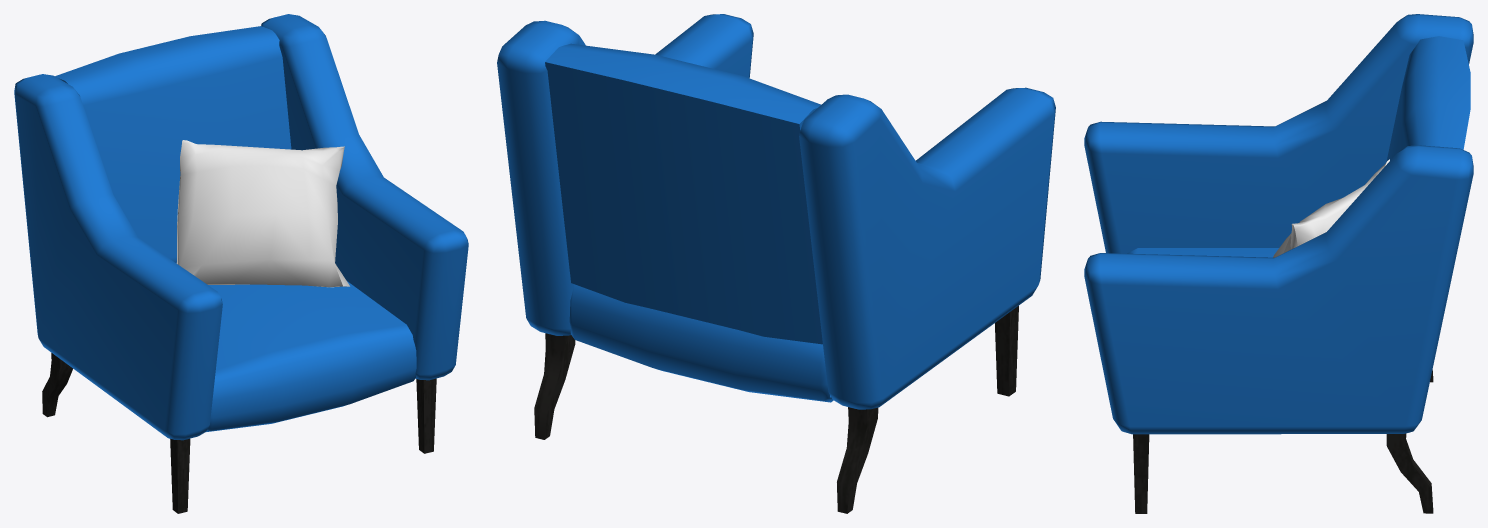
File: chair_055.fbx
3 views of the same model, side by side, from view 1: azimuth 30°, elevation 25°; view 2: azimuth 150°, elevation 25°; view 3: azimuth 270°, elevation 25° (orthographic). The views are drawn at different scales.
Parts seen in each view (by area): view 1: chair_055; view 2: chair_055; view 3: chair_055.
Boxes of the visible parts, left/top/right/bottom form: chair_055: left=14, top=14, right=468, bottom=513; chair_055: left=497, top=14, right=1055, bottom=513; chair_055: left=1084, top=14, right=1473, bottom=513.
Bounding box in the file's own units: 102 × 109 × 112.
